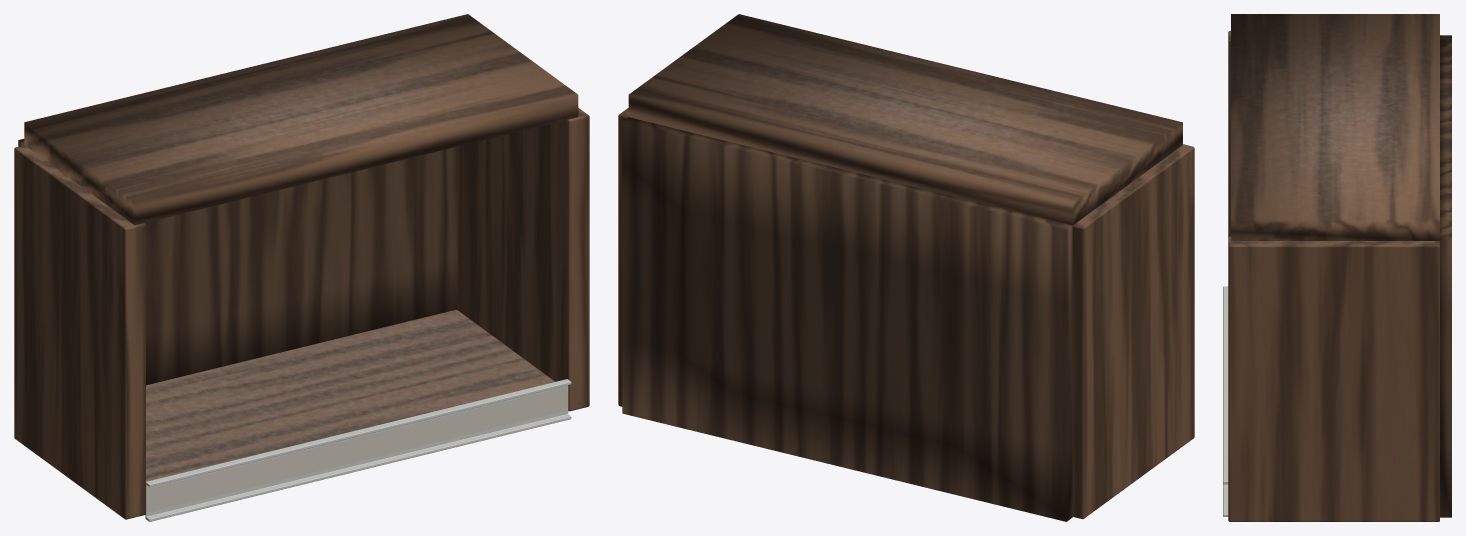
The model's file is shelf_bay.glb.
The picture shows the model from 3 angles, left to right: view 1: azimuth 30°, elevation 25°; view 2: azimuth 150°, elevation 25°; view 3: azimuth 270°, elevation 25°; orthographic projection. The views are drawn at different scales.
Visible parts, largest first — view 1: shelf_bay; view 2: shelf_bay; view 3: shelf_bay.
Boxes of the visible parts, box(x1,y1,x2,y2) form: shelf_bay: box(14, 14, 589, 521); shelf_bay: box(618, 14, 1194, 521); shelf_bay: box(1223, 14, 1451, 521).
Size of the model in its own units: 0.39 by 0.2555 by 0.175.
5 materials, 5 textured.
